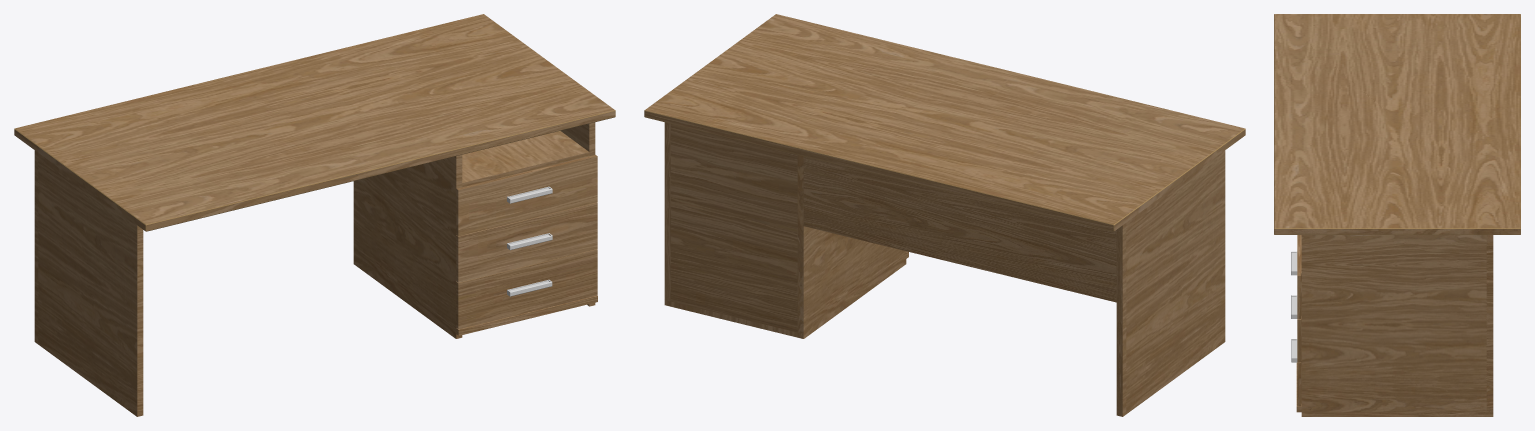
Rendered from _table-00000.fbx.
3 views of the same model, side by side, from view 1: azimuth 30°, elevation 25°; view 2: azimuth 150°, elevation 25°; view 3: azimuth 270°, elevation 25° (orthographic). The views are drawn at different scales.
Visible parts, largest first — view 1: DESK; view 2: DESK; view 3: DESK.
Part boxes in pixels (<box>): DESK: <box>14,14,615,416</box>; DESK: <box>644,14,1245,416</box>; DESK: <box>1274,14,1520,416</box>.
Size of the model in its own units: 1.38 by 0.5729 by 0.67.
Materials: 3 (1 with a texture image).
